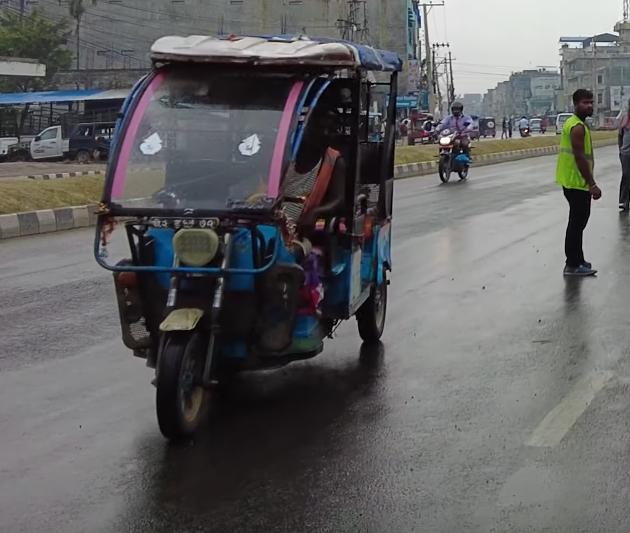bike: (433, 128, 474, 182)
e-rickshaw: (92, 28, 417, 443)
